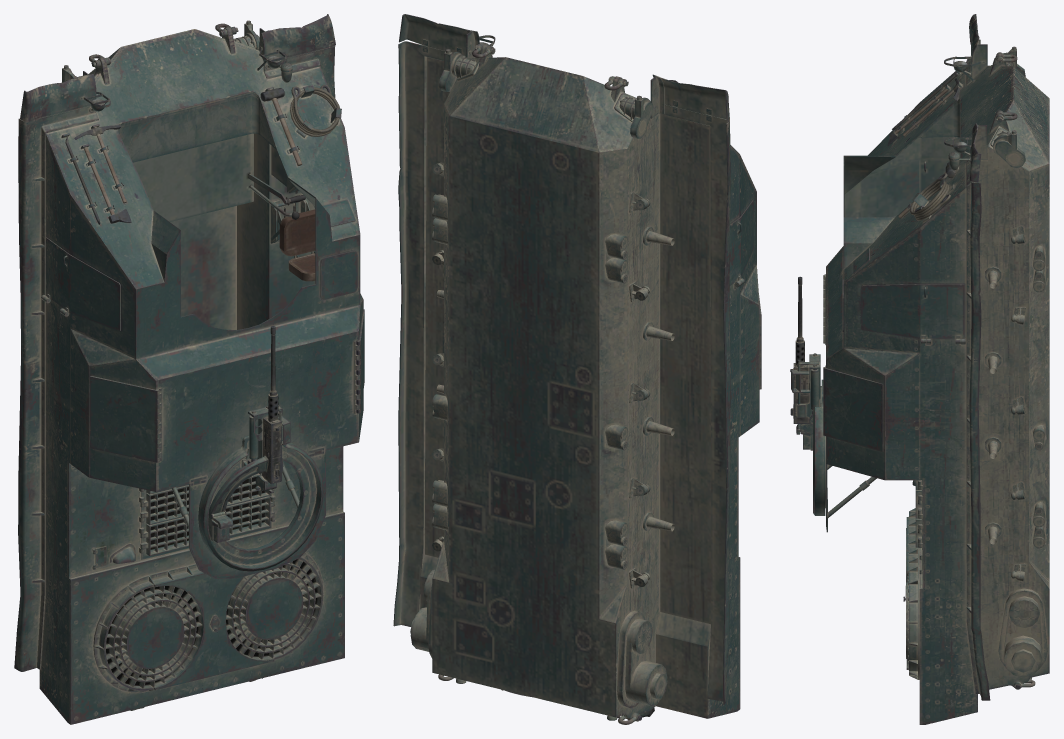
Rendered from Hull.glb.
3 renders of one model, left to right at view 1: azimuth 30°, elevation 25°; view 2: azimuth 150°, elevation 25°; view 3: azimuth 270°, elevation 25°, orthographic. The views are drawn at different scales.
Parts seen in each view (by area): view 1: set_0_group_0; view 2: set_0_group_0; view 3: set_0_group_0.
Boxes of the visible parts, x1=… form: set_0_group_0: x1=14, y1=14, x2=364, y2=724; set_0_group_0: x1=393, y1=14, x2=761, y2=724; set_0_group_0: x1=790, y1=14, x2=1049, y2=724.
Bounding box in the file's own units: 3.45 × 6.59 × 2.62.
1 material, 1 textured.
